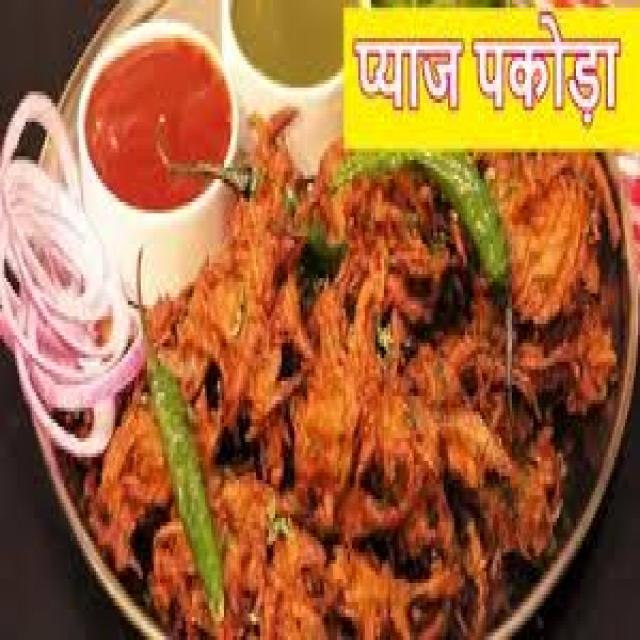BAJI: (88, 103, 628, 636)
